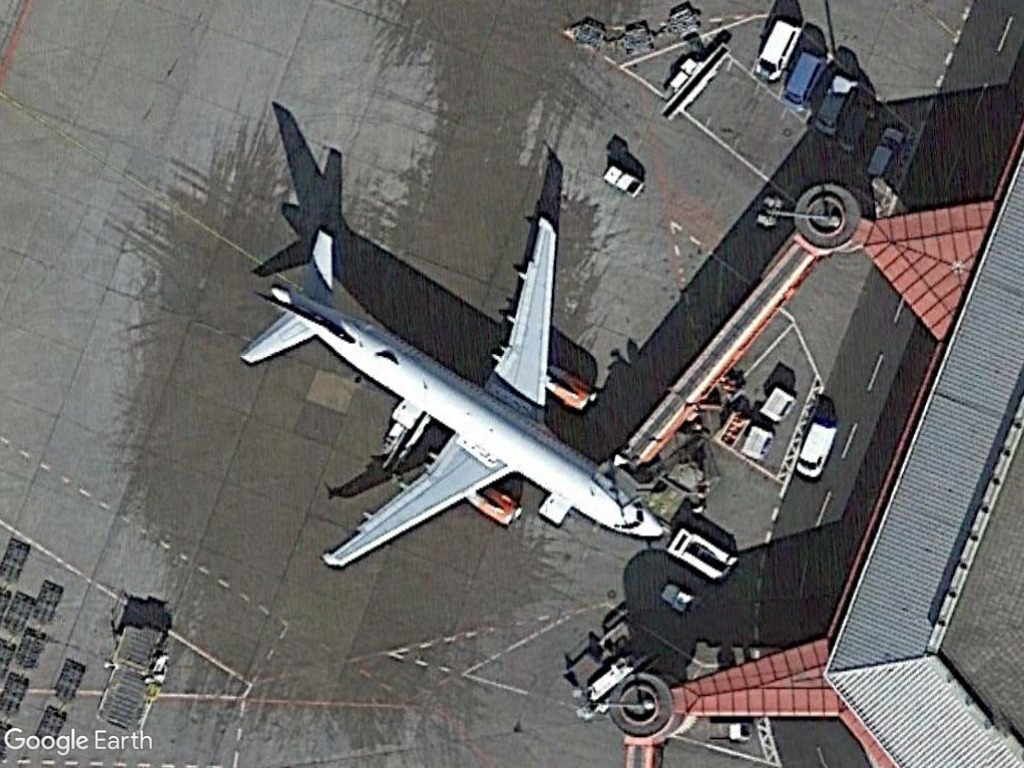airliner: (234, 213, 669, 590)
van: (749, 18, 806, 86), (791, 416, 841, 487)
